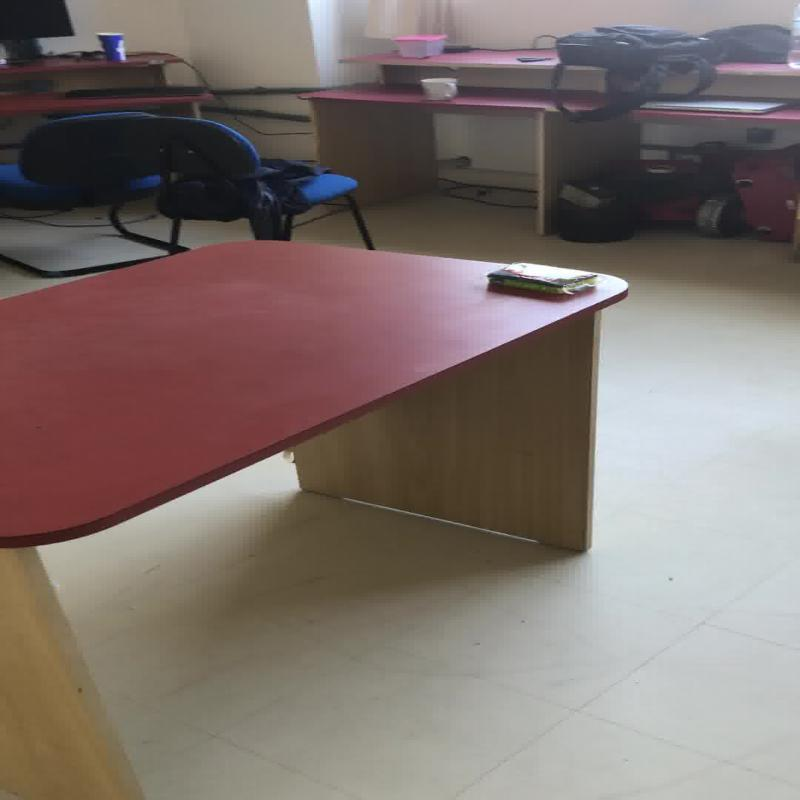sponge: (484, 261, 600, 295), (390, 33, 447, 58)
